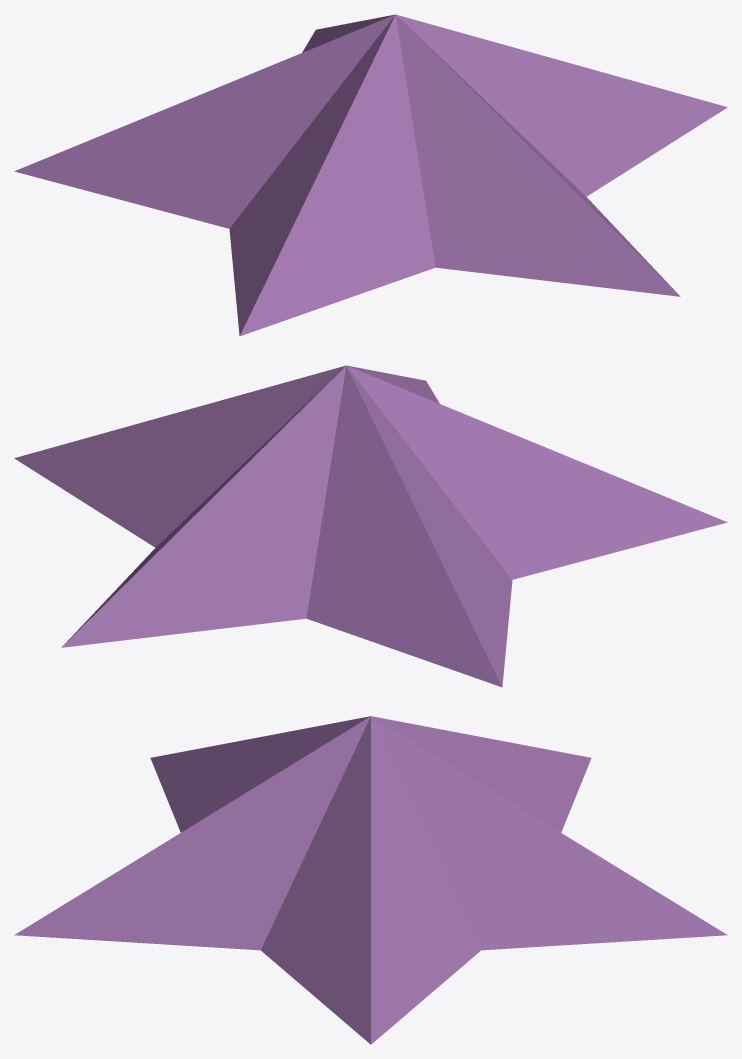
Rendered from star.glb.
3 renders of one model, top to bottom at view 1: azimuth 30°, elevation 25°; view 2: azimuth 150°, elevation 25°; view 3: azimuth 270°, elevation 25°, orthographic. The views are drawn at different scales.
Parts seen in each view (by area): view 1: Mesh_Mesh_head_geo.001_lambert2SG.001; view 2: Mesh_Mesh_head_geo.001_lambert2SG.001; view 3: Mesh_Mesh_head_geo.001_lambert2SG.001.
Part boxes in pixels (bbox=[...]): Mesh_Mesh_head_geo.001_lambert2SG.001: bbox=[14, 14, 727, 336]; Mesh_Mesh_head_geo.001_lambert2SG.001: bbox=[14, 365, 727, 687]; Mesh_Mesh_head_geo.001_lambert2SG.001: bbox=[14, 716, 727, 1044].
Bounding box in the file's own units: 3.62 × 1 × 3.8.
